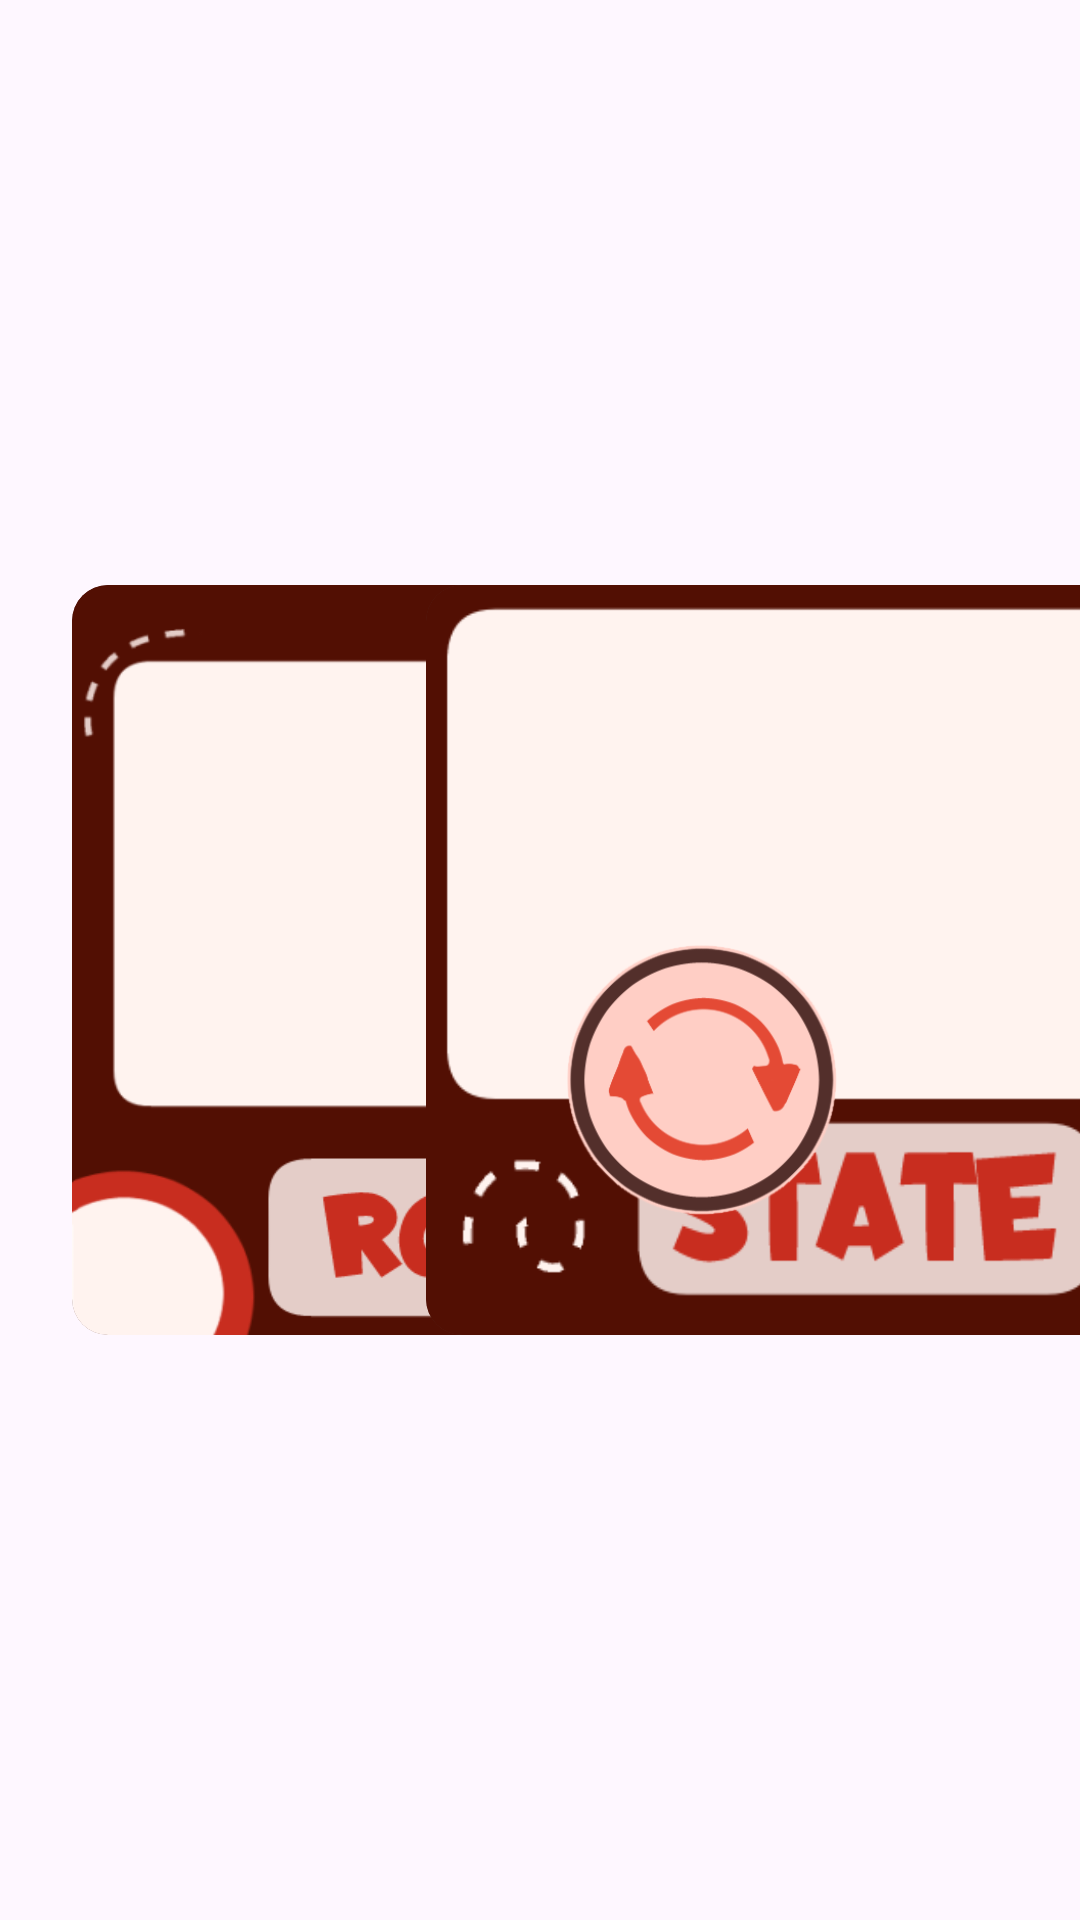

Point at icon controls on the screen. Image size 1080px x 1920px, points as (x=x, y=y).
swap symbol version: (x=702, y=1080)
